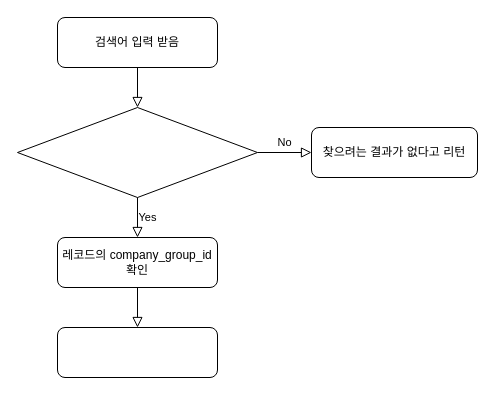
This 495x395 diagram has some shape labels left out. Here are the shapes that lost their labels. From the top down, the box of each, then its label:
(16, 106, 258, 198): company 테이블의 name 필드에서 검색어와 유사한 레코드가 존재?
(56, 326, 218, 378): 동일한 company_group_id를 가진 레코드 전체 추출하여 리턴
